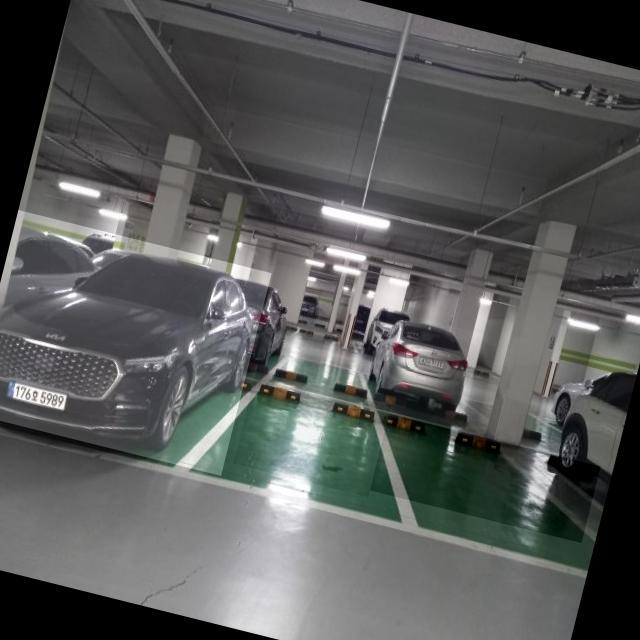empty: (362, 412, 600, 542), (232, 372, 390, 497), (274, 348, 374, 402)
occupied: (0, 209, 271, 475), (364, 310, 484, 426)
